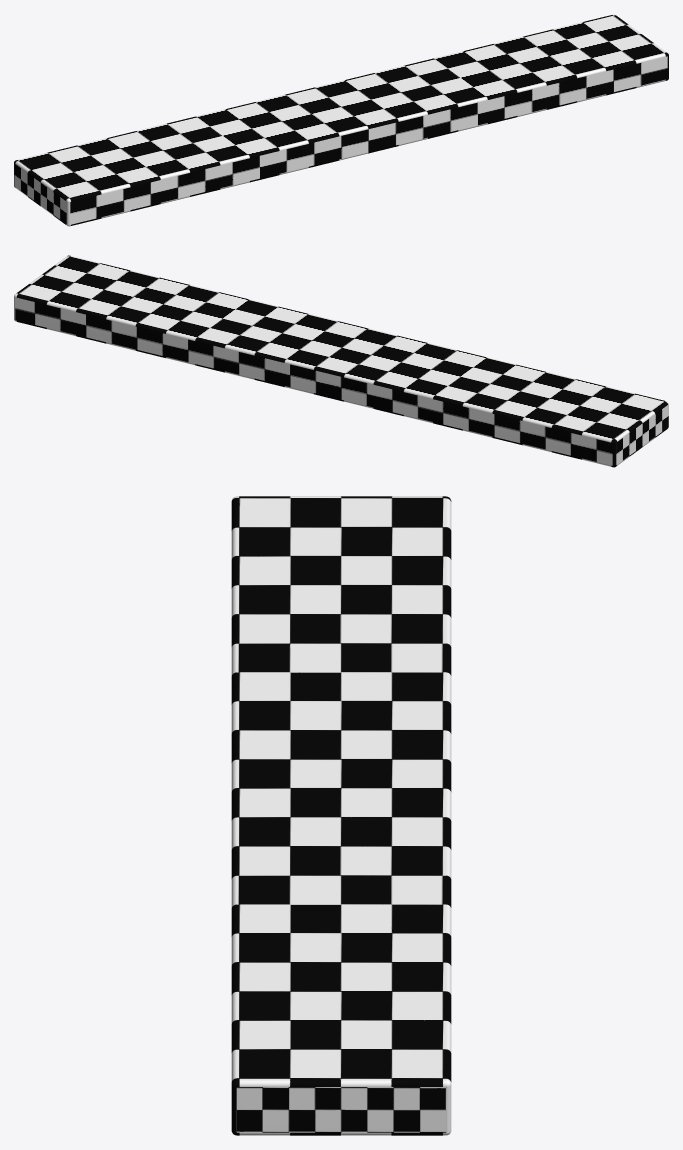
File: FinishLine.fbx
The picture shows the model from 3 angles, top to bottom: view 1: azimuth 30°, elevation 25°; view 2: azimuth 150°, elevation 25°; view 3: azimuth 270°, elevation 25°; orthographic projection. The views are drawn at different scales.
Parts seen in each view (by area): view 1: finish_line; view 2: finish_line; view 3: finish_line.
Boxes of the visible parts, x1,y1,x2,y2 form: finish_line: (14, 14, 668, 226); finish_line: (14, 255, 668, 467); finish_line: (231, 496, 451, 1135).
Bounding box in the file's own units: 39.37 × 1.72 × 6.22.
Materials: 1 (1 with a texture image).
